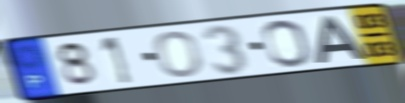1: (100, 34, 134, 85)
3: (202, 21, 251, 78)
8: (56, 41, 99, 88)
A: (314, 14, 369, 66)
O: (260, 18, 315, 68), (153, 29, 205, 79)
